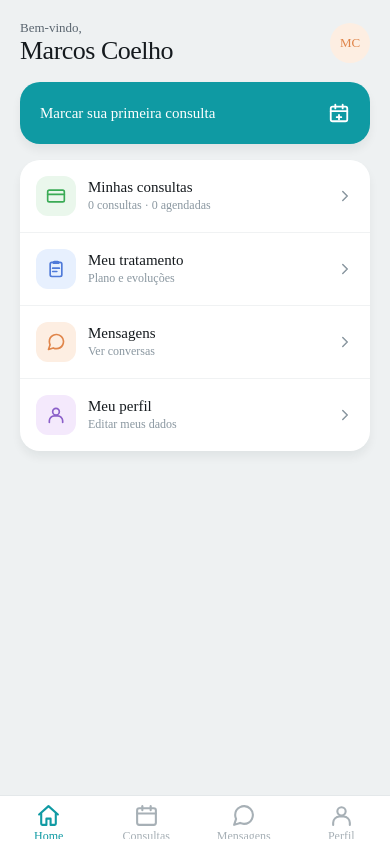
Navegação do paciente › o avatar abre o menu; "Editar Perfil" leva à aba Perfil
What coordinates should you click on to do the following:
click the button with test id "paciente-avatar"
I would click on:
 (350, 43)
Its box is [330,23,370,63].
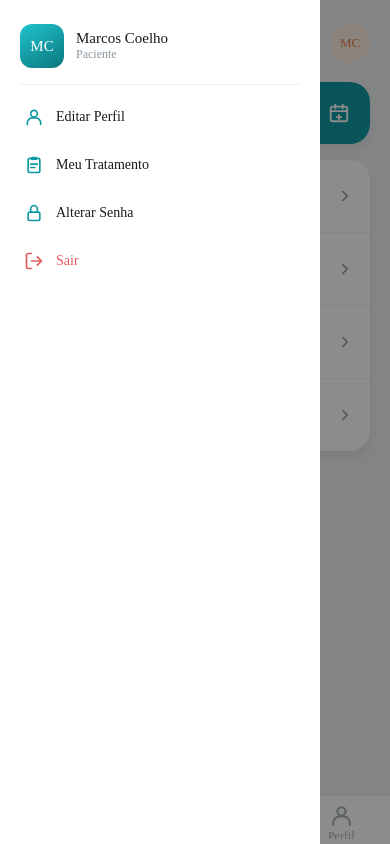
Expected: the element with test id "menu-lateral" is shown
What coordinates should you click on to do the following:
click the button with test id "menu-editar-perfil"
I would click on:
 (90, 116)
Its box is [20,93,300,141].
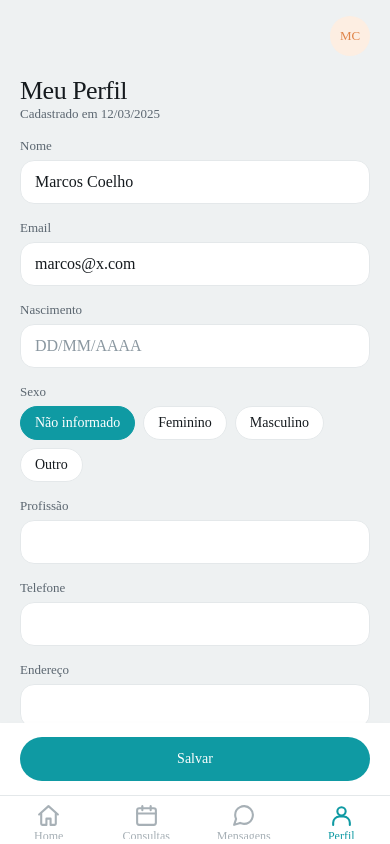
Expected: the text "Cadastrado em 12/03/2025" is shown, [20,106,160,121]
Expected: the element with test id "menu-lateral" is gone
